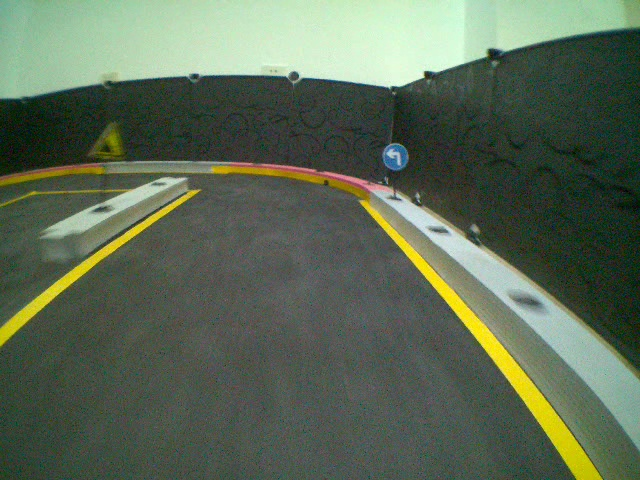fast: (86, 121, 126, 160)
turn: (382, 141, 410, 172)
